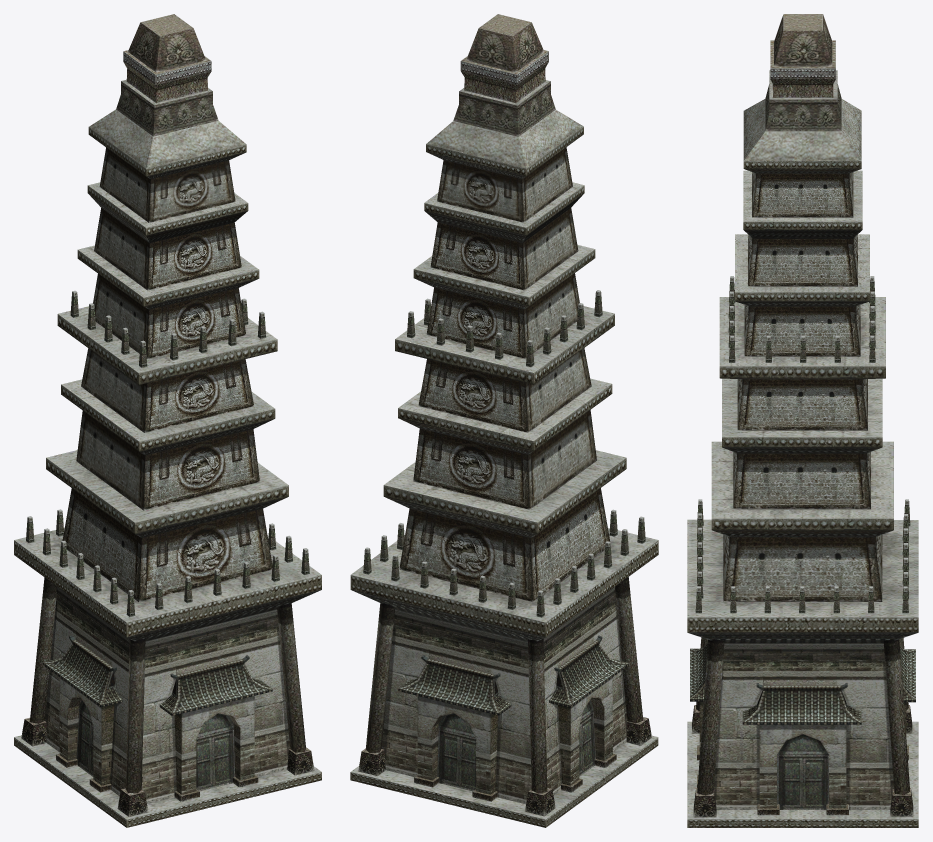
The model's file is c1-031-tower.fbx.
The picture shows the model from 3 angles, left to right: view 1: azimuth 30°, elevation 25°; view 2: azimuth 150°, elevation 25°; view 3: azimuth 270°, elevation 25°; orthographic projection. The views are drawn at different scales.
Parts seen in each view (by area): view 1: tower16; view 2: tower16; view 3: tower16.
Boxes of the visible parts, left/top/right/bottom form: tower16: left=14, top=14, right=321, bottom=827; tower16: left=350, top=14, right=658, bottom=827; tower16: left=687, top=14, right=918, bottom=827.
Size of the model in its own units: 9.27 by 33.49 by 9.27.
